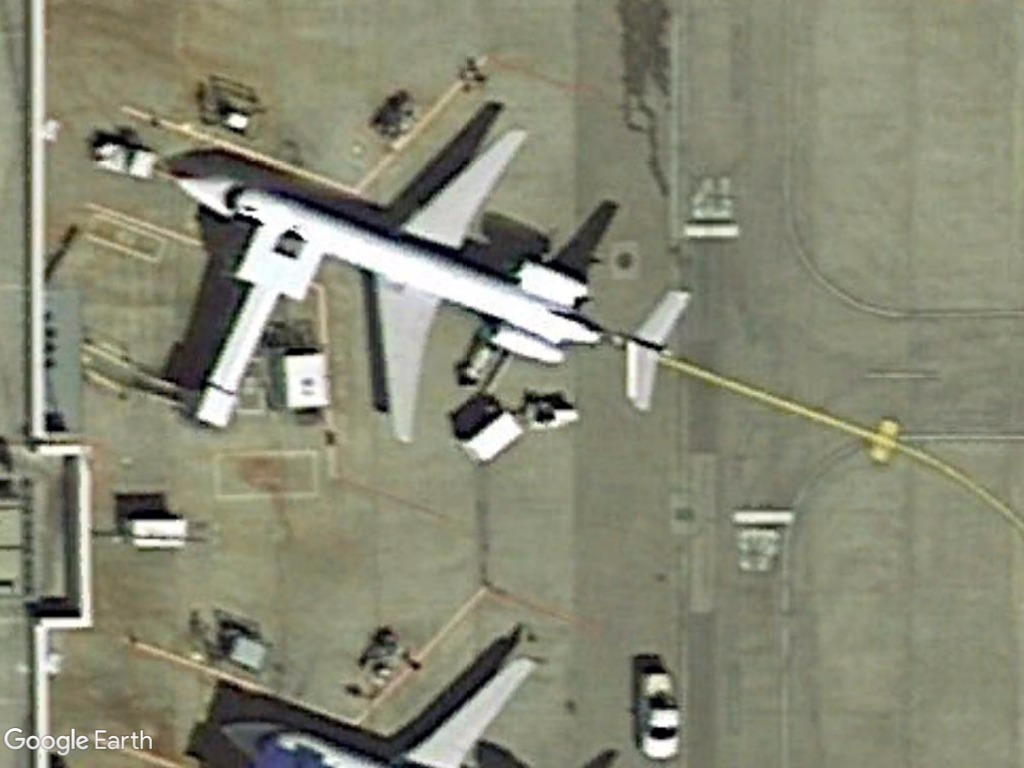chartered: (169, 120, 694, 446)
other: (633, 664, 685, 763)
